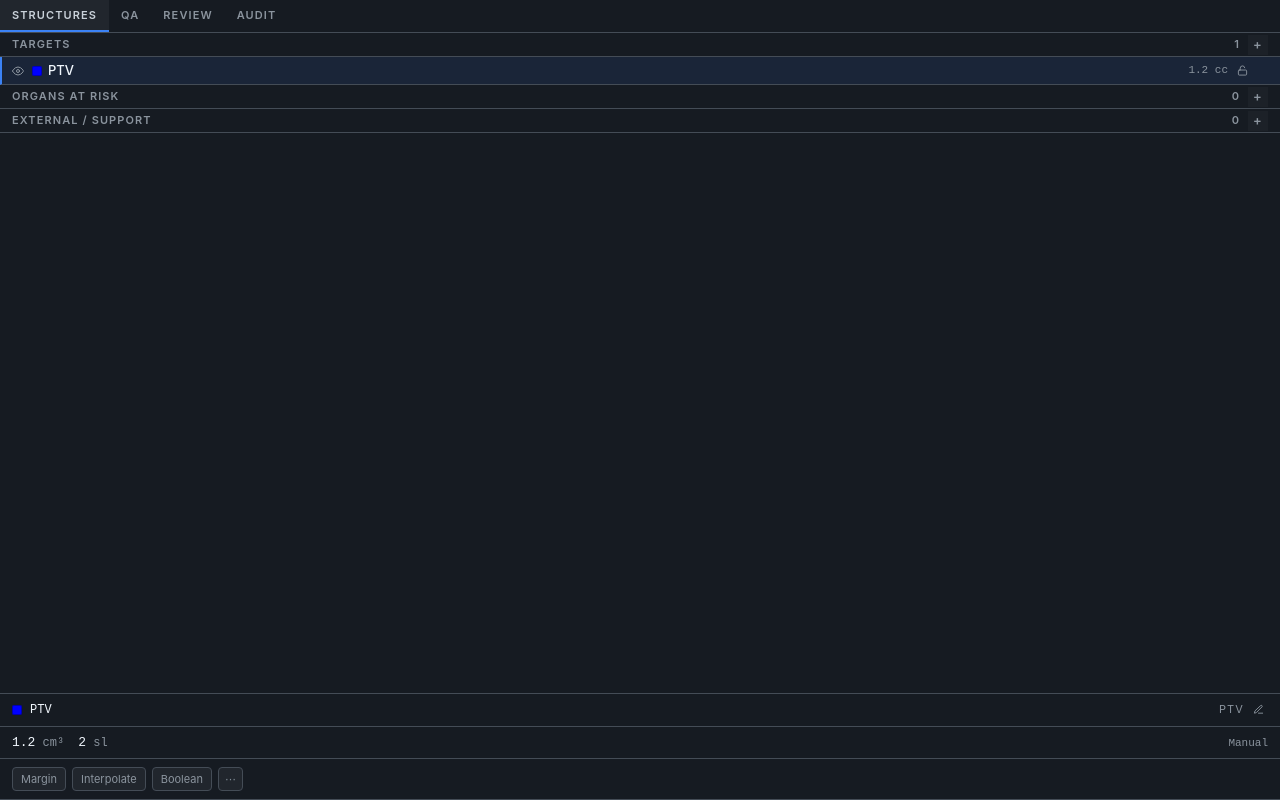
Test: StructurePanel local draft and structure editing interactions › interpolates missing contour slices for the active structure @links:SRS-014
Click the button "Interpolate" at (109, 779), box [72,767,146,791]
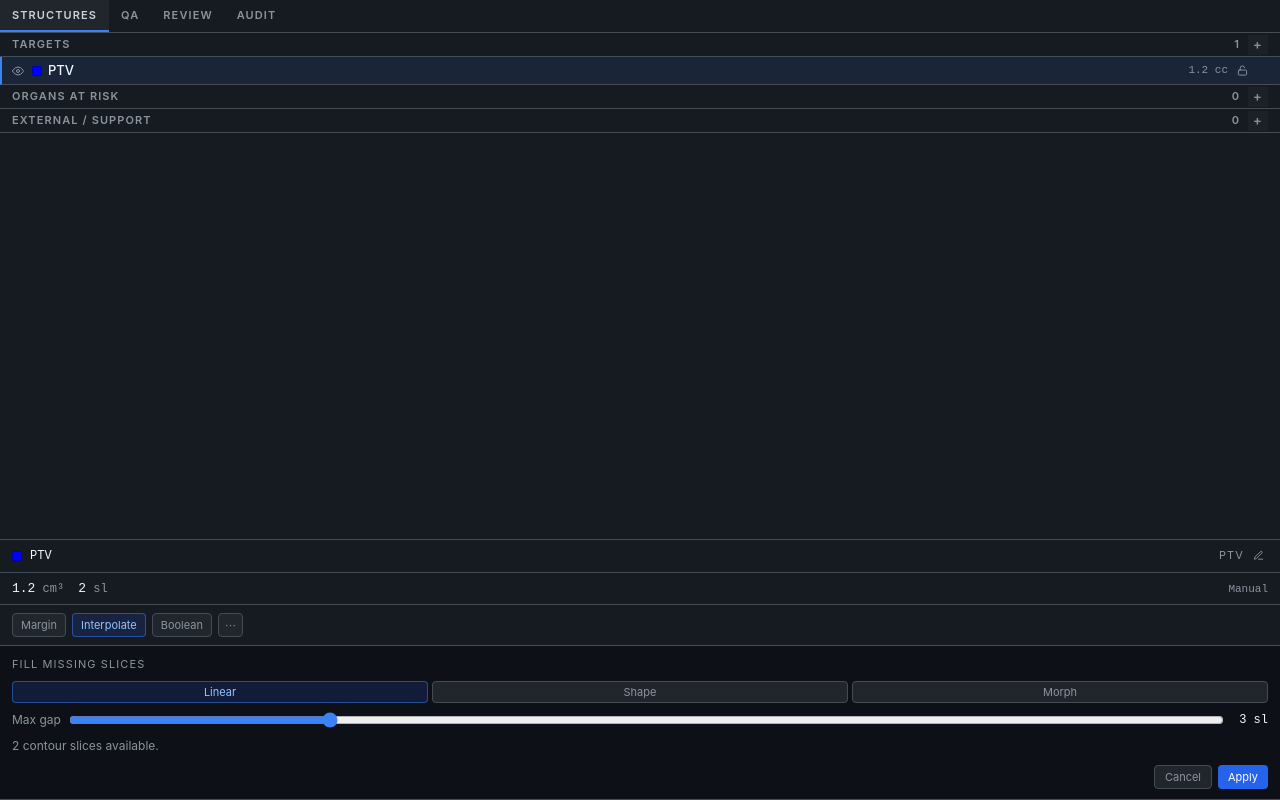
Set the slider named "Interpolation gap" to "2" at (204, 720), box [69,712,1224,728]
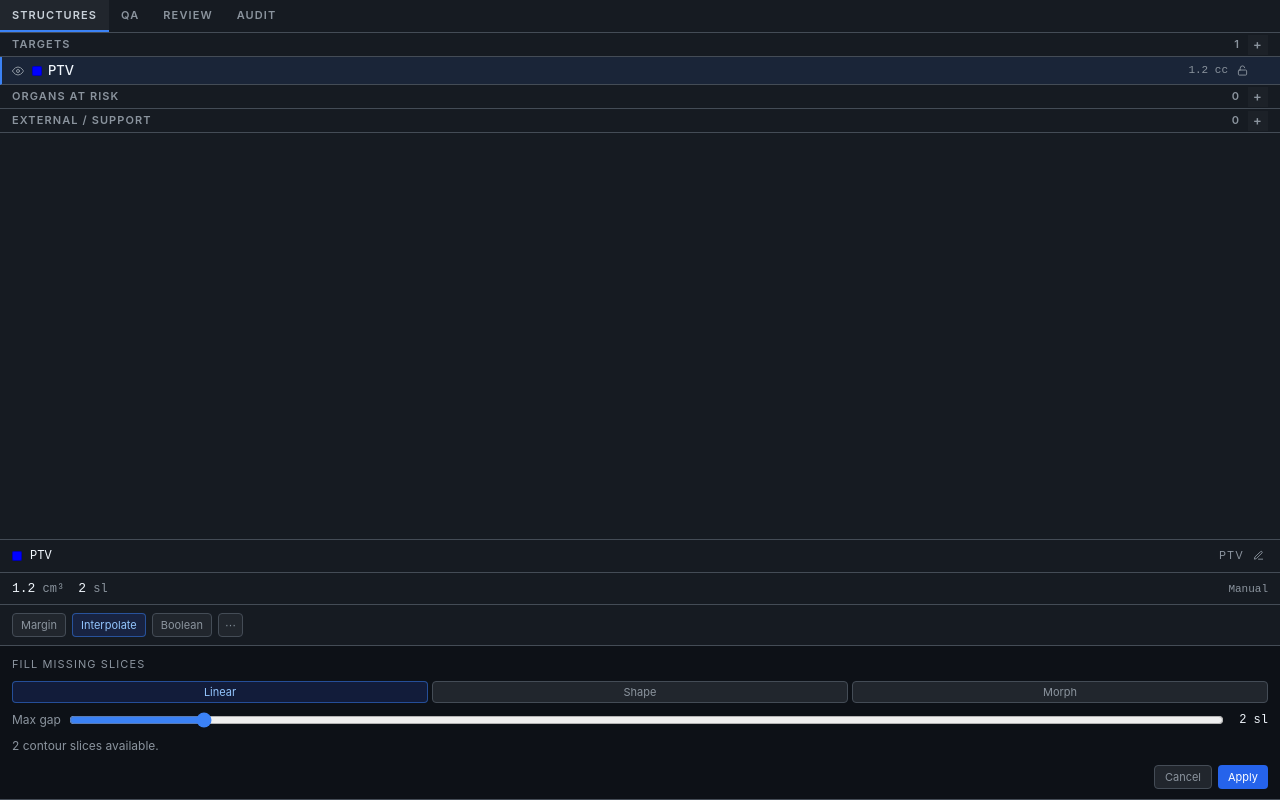
Click the button "Apply" at (1243, 777), box [1218,765,1268,789]
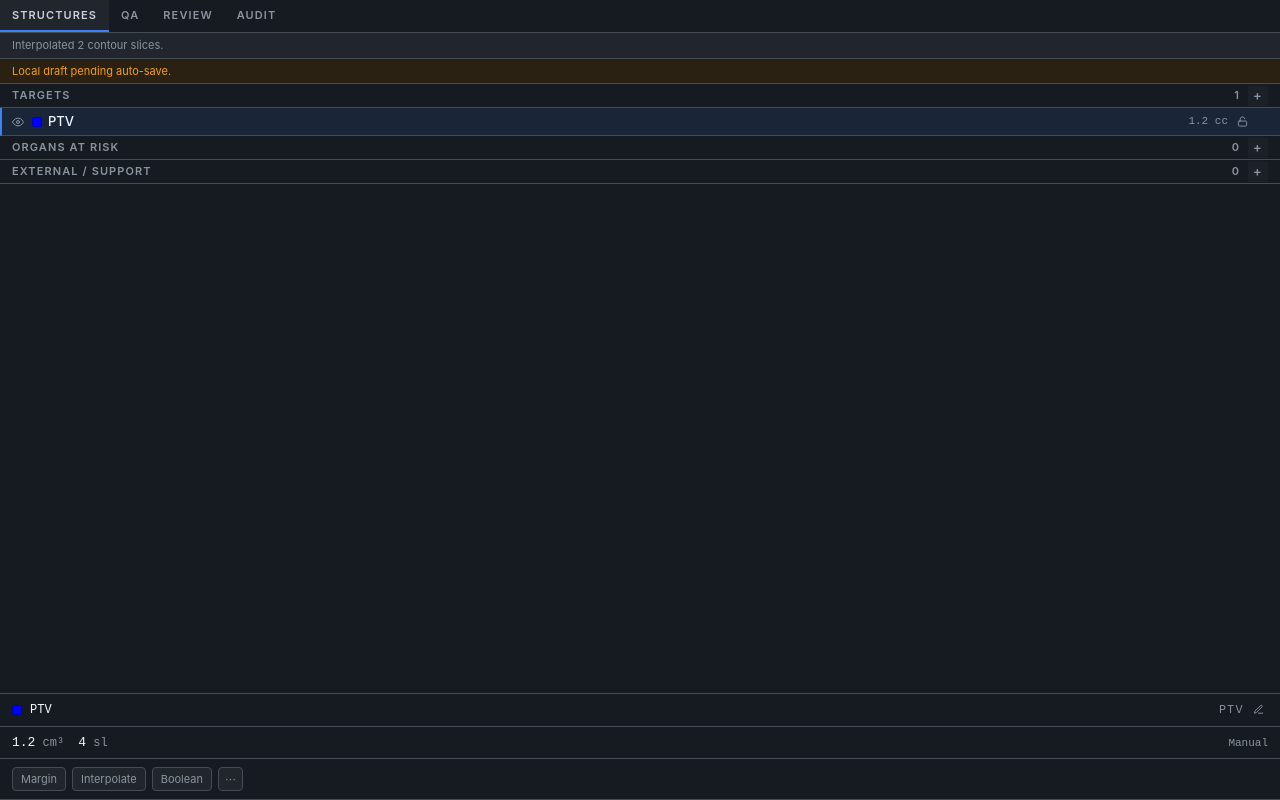
Check: the text "Interpolated 2 contour slices." is shown, box [0,33,1279,58]
